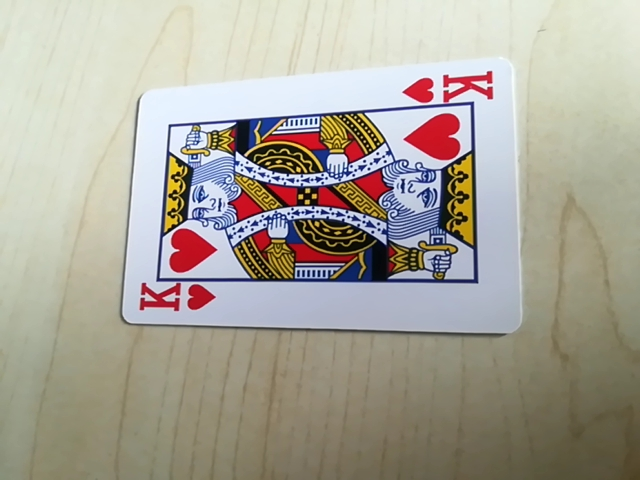hx k: (405, 65, 502, 109), (133, 278, 216, 323)
